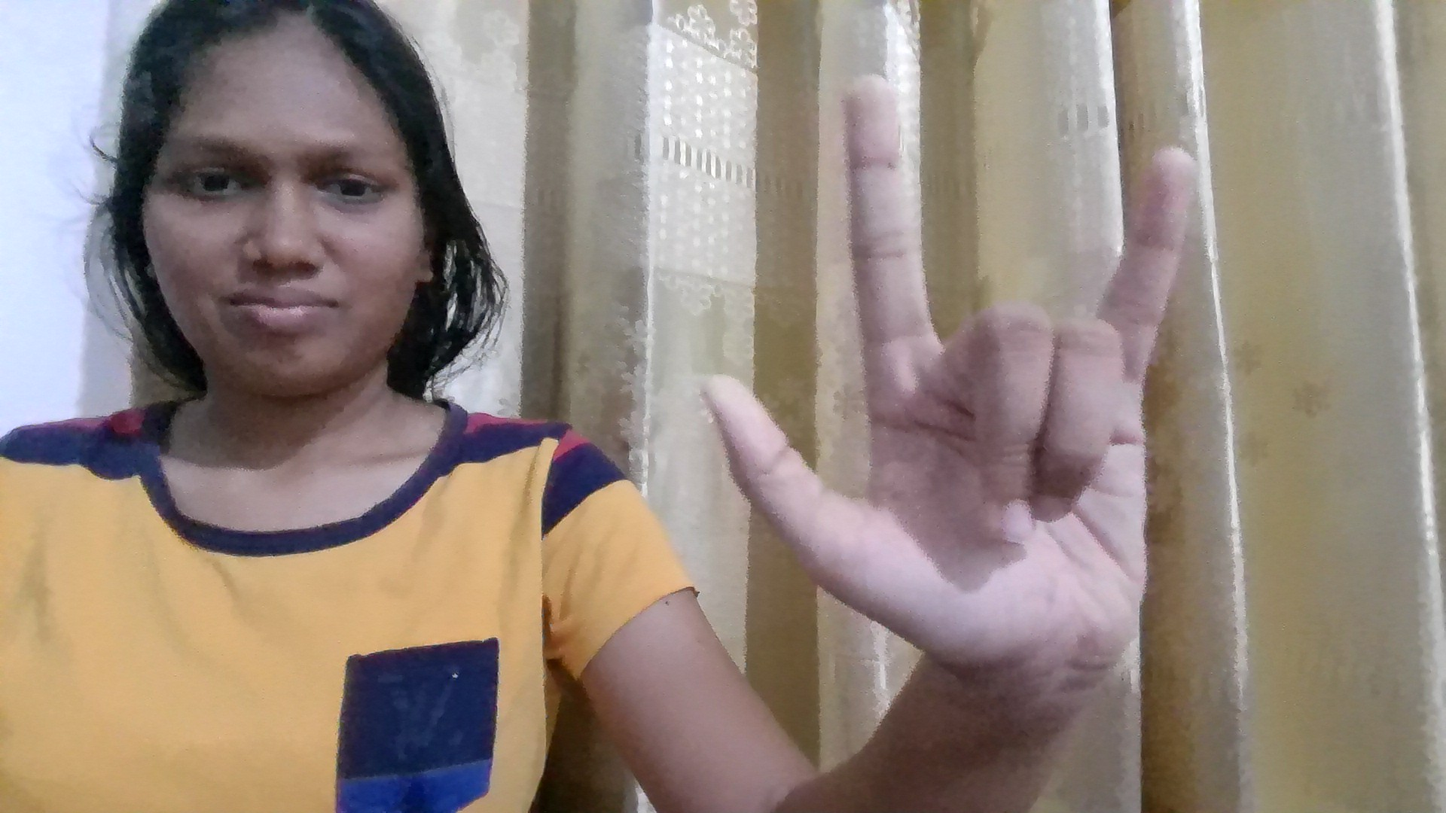I Love You: (712, 53, 1232, 686)
